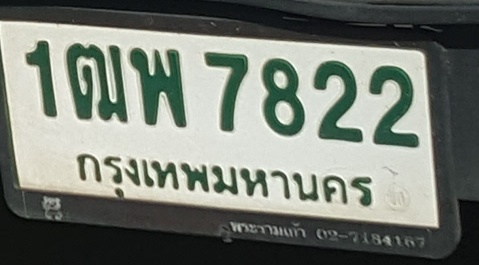num1: (22, 38, 61, 118)
txt13: (63, 40, 130, 124)
txt25: (126, 46, 188, 129)
